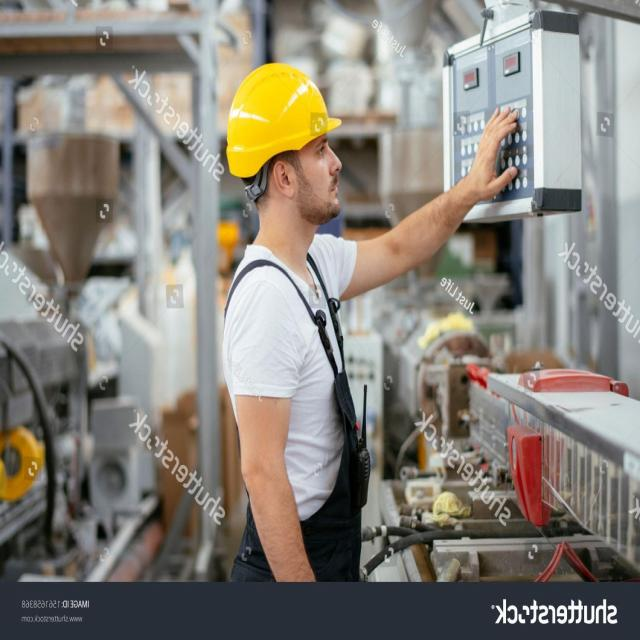Safety-Helmet: (222, 58, 344, 180)
